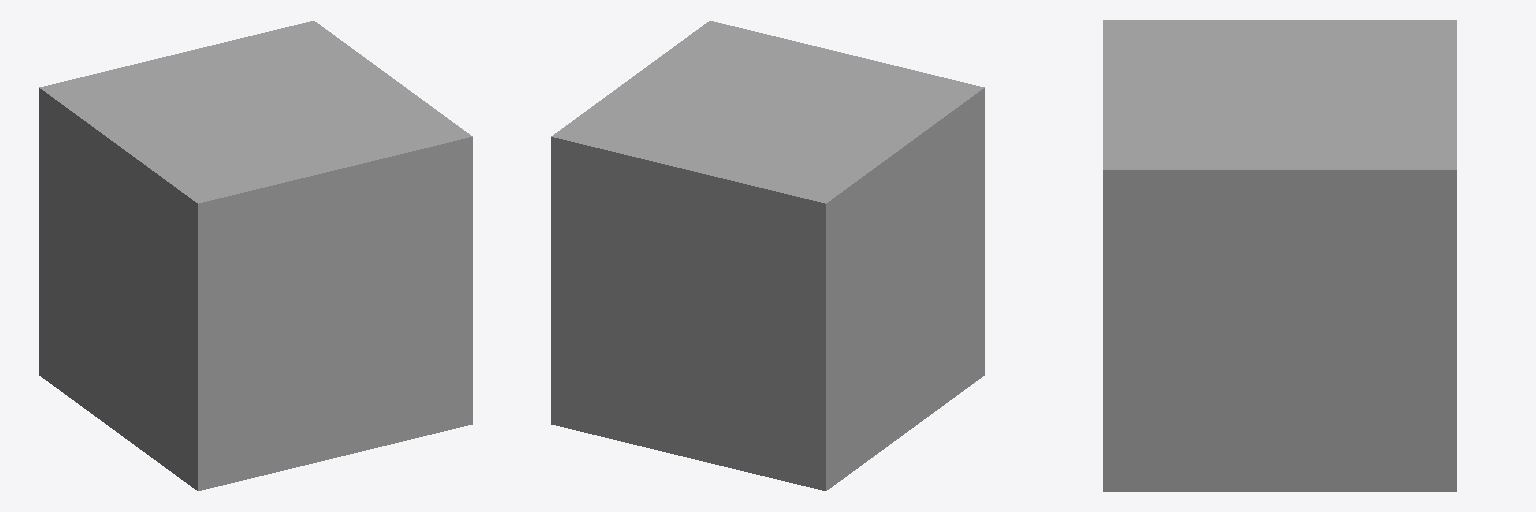
The robot description file, URDF, robot "nbv":
<?xml version="1.0" ?>
<robot name="nbv">

  <link name="ground"/>

  <!-- Base -->
  <link name="base_link">
    <visual>
      <origin xyz="0 0 0" rpy="0 0 0" />
      <geometry>
        <mesh filename="package://nbv/urdf/stl/mount.stl" />
      </geometry>
    </visual>
    <collision>
      <origin xyz="0 0 0" rpy="0 0 0" />
      <geometry>
        <mesh filename="package://nbv/urdf/stl/mount.stl" />
      </geometry>
    </collision>

    <!-- 
    <inertial>
      <mass value="0.1" />
      <inertia ixx="0.03" iyy="0.03" izz="0.03" ixy="0.0" ixz="0.0" iyz="0.0" />
    </inertial>
    -->
  </link>

 <joint name="world_rotate" type="fixed">
    <parent link="ground"/>
    <child link="base_link"/>
    <origin xyz="0 0 0" rpy="-1.5708 0 0"/>
 </joint>
  
  
  <!-- Base-Seg1 -->
  <link name="base-seg1">
    <visual>
      <origin xyz="0 0 -0.2491" rpy="0 0 -1.57079632679" />
      <geometry>
        <mesh filename="package://nbv/urdf/stl/mount-seg1.stl" />
      </geometry>
    </visual>
    <collision>
      <origin xyz="0 0 -0.2491" rpy="0 0 -1.57079632679" />
      <geometry>
        <mesh filename="package://nbv/urdf/stl/mount-seg1.stl" />
      </geometry>
    </collision>
    <inertial>
      <mass value="0.1" />
      <inertia ixx="0.03" iyy="0.03" izz="0.03" ixy="0.0" ixz="0.0" iyz="0.0" />
    </inertial>
  </link>
  <joint name="joint1" type="revolute">
    <parent link="base_link" />
    <child link="base-seg1" />
    <origin xyz="0 0 0.2872" rpy="0 0 0" />
    <axis xyz="0 0 1" />
    <limit effort="300" velocity="0.25" lower="-3.14159" upper="3.14159" />
  </joint>
  
  
  <!-- Seg1 -->
  <link name="seg1">
    <visual>
      <origin xyz="0 0 0" rpy="0 1.57079632679 -1.57079632679" />
      <geometry>
        <mesh filename="package://nbv/urdf/stl/seg1.stl" />
      </geometry>
    </visual>
    <collision>
      <origin xyz="0 0 0" rpy="0 1.57079632679 -1.57079632679" />
      <geometry>
        <mesh filename="package://nbv/urdf/stl/seg1.stl" />
      </geometry>
    </collision>

    <inertial>
      <mass value="0.1" />
      <inertia ixx="0.03" iyy="0.03" izz="0.03" ixy="0.0" ixz="0.0" iyz="0.0" />
    </inertial>

  </link>
  <joint name="joint2" type="revolute">
    <parent link="base-seg1" />
    <child link="seg1" />
    <origin xyz="0 0 0" rpy="1.57079632679 0 0" />
    <axis xyz="0 0 1" />
    <limit effort="300" velocity="0.25" lower="-0.785" upper="3.925" />
  </joint>
  <!-- Seg1-Seg2 -->
  <link name="seg1-seg2">
    <visual>
      <origin xyz="0 0 0" rpy="0 1.57079632679 0" />
      <geometry>
        <mesh filename="package://nbv/urdf/stl/seg1-seg2.stl" />
      </geometry>
    </visual>
    <collision>
      <origin xyz="0 0 0" rpy="0 1.57079632679 0" />
      <geometry>
        <mesh filename="package://nbv/urdf/stl/seg1-seg2.stl" />
      </geometry>
    </collision>

    <inertial>
      <mass value="0.1" />
      <inertia ixx="0.03" iyy="0.03" izz="0.03" ixy="0.0" ixz="0.0" iyz="0.0" />
    </inertial>

  </link>
  <joint name="joint3" type="revolute">
    <parent link="seg1" />
    <child link="seg1-seg2" />
    <origin xyz="0.5589 0 0" rpy="3.14159265359 0 0" />
    <axis xyz="0 0 1" />
    <limit effort="300" velocity="0.25" lower="-1.5707" upper="1.5707" />
  </joint>
  <!-- Seg2 -->
  <link name="seg2">
    <visual>
      <origin xyz="0 0 -0.4368" rpy="0 0 1.57079632679" />
      <geometry>
        <mesh filename="package://nbv/urdf/stl/seg2.stl" />
      </geometry>
    </visual>
    <collision>
      <origin xyz="0 0 -0.4368" rpy="0 0 1.57079632679" />
      <geometry>
        <mesh filename="package://nbv/urdf/stl/seg2.stl" />
      </geometry>
    </collision>

    <inertial>
      <mass value="0.1" />
      <inertia ixx="0.03" iyy="0.03" izz="0.03" ixy="0.0" ixz="0.0" iyz="0.0" />
    </inertial>

  </link>
  <joint name="joint4" type="continuous">
    <parent link="seg1-seg2" />
    <child link="seg2" />
    <origin xyz="0.15140 -0.5388 0" rpy="1.57079632679 0 0" />
    <axis xyz="0 0 1" />
    <limit effort="300" velocity="0.25" lower="-3.14159" upper="3.14159" />
  </joint>
  <!-- End -->
  <link name="end">
    <visual>
      <origin xyz="0 0 0" rpy="0 1.57079632679 -1.57079632679" />
      <geometry>
        <mesh filename="package://nbv/urdf/stl/end.stl" />
      </geometry>
    </visual>
    <collision>
      <origin xyz="0 0 0" rpy="0 1.57079632679 -1.57079632679" />
      <geometry>
        <mesh filename="package://nbv/urdf/stl/end.stl" />
      </geometry>
    </collision>

    <inertial>
      <mass value="0.1" />
      <inertia ixx="0.03" iyy="0.03" izz="0.03" ixy="0.0" ixz="0.0" iyz="0.0" />
    </inertial>

  </link>
  <joint name="joint5" type="revolute">
    <parent link="seg2" />
    <child link="end" />
    <origin xyz="0 0 0" rpy="-1.57079632679 0 0" />
    <axis xyz="0 0 1" />
    <limit effort="300" velocity="0.25" lower="-1.78" upper="1.78" />
  </joint>
  <!-- Manipulator -->
  <!-- Another joint for the rotation of whatever is attached to the end of NBV.
    As there is no model for this, it's currently just a big cube when uncommented. -->
  <link name="manip">
    <visual>
      <origin xyz="0 0 0.3" rpy="0 0 0" />
      <geometry>
        <box size="0.1 0.1 0.1" />
      </geometry>
    </visual>
    <collision>
      <origin xyz="0 0 0.3" rpy="0 0 0" />
      <geometry>
        <box size="0.1 0.1 0.1" />
      </geometry>
    </collision>

    <inertial>
      <mass value="0.1" />
      <inertia ixx="0.03" iyy="0.03" izz="0.03" ixy="0.0" ixz="0.0" iyz="0.0" />
    </inertial>

  </link>
  <joint name="joint6" type="continuous">
    <parent link="end" />
    <child link="manip" />
    <origin xyz="0 0 0" rpy="1.57079632679 0 0" />
    <axis xyz="0 0 1" />
    <limit effort="300" velocity="0.25" lower="-6.28" upper="6.28" />
  </joint>
</robot>

--- Render facts (derived) ---
Views: 3 orthographic renders of the robot side by side, from view 1: azimuth 30°, elevation 25°; view 2: azimuth 150°, elevation 25°; view 3: azimuth 270°, elevation 25°.
Model nbv with 8 links and 7 joints (4 revolute, 2 continuous, 1 fixed), rooted at ground, posed every joint at zero.
Links seen in each view (by area): view 1: manip; view 2: manip; view 3: manip.
Link boxes in pixels (x1=…): manip: x1=39, y1=21, x2=472, y2=490; manip: x1=551, y1=21, x2=984, y2=490; manip: x1=1103, y1=20, x2=1456, y2=491.
Size in the robot's own frame: 0.1 by 0.1 by 0.1 metres.
Meshes: 6 distinct files referenced, 0 mesh visuals loaded (none loaded); not drawn: 6 (reference not matched to a file when rendering).